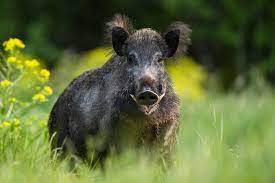boar: (47, 16, 193, 169)
